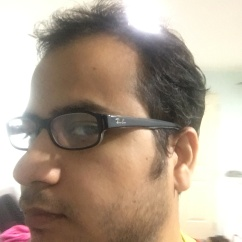glasses: (8, 114, 182, 144)
